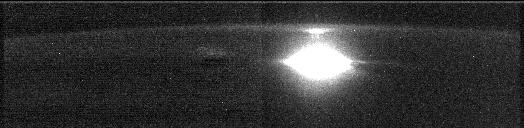negative: (298, 27, 335, 41)
